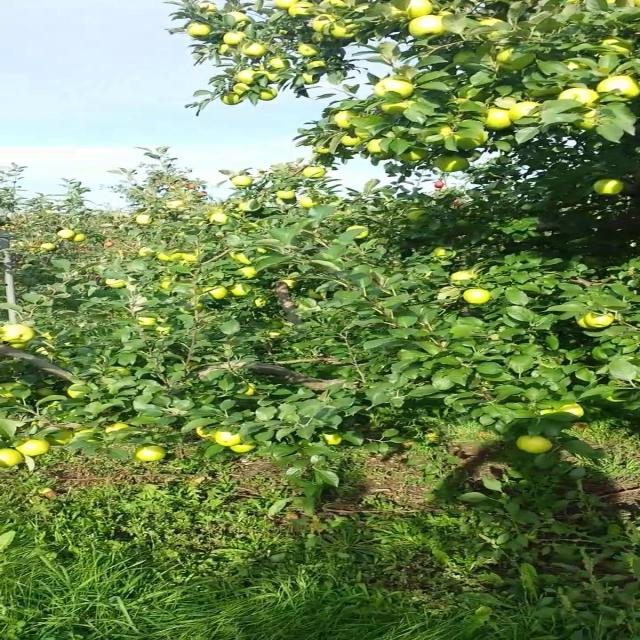apple: (596, 75, 640, 98), (492, 45, 532, 67), (373, 78, 413, 99), (409, 15, 444, 38), (484, 103, 514, 129), (391, 0, 433, 18), (452, 129, 488, 149), (558, 88, 600, 105), (540, 402, 584, 418), (570, 108, 602, 130), (516, 435, 553, 454), (378, 98, 417, 116), (414, 124, 452, 142), (491, 53, 529, 71), (366, 137, 396, 159), (0, 324, 36, 342), (598, 37, 633, 55), (576, 311, 610, 329), (433, 155, 469, 172), (509, 101, 539, 121), (16, 439, 51, 456), (328, 21, 361, 39), (484, 108, 511, 130), (582, 310, 614, 328), (421, 124, 455, 140), (46, 428, 76, 446), (447, 268, 478, 284), (136, 445, 167, 461), (593, 179, 624, 195), (332, 109, 358, 128), (286, 1, 316, 17), (365, 137, 391, 155), (396, 147, 429, 161), (476, 18, 504, 34), (462, 289, 491, 304), (213, 431, 242, 446), (310, 14, 334, 32), (240, 42, 267, 58), (367, 146, 397, 160), (450, 50, 476, 65), (187, 22, 211, 38), (64, 382, 87, 398), (218, 91, 244, 105), (186, 25, 212, 39), (295, 42, 320, 56), (263, 56, 288, 70), (192, 424, 216, 438), (228, 283, 252, 297), (236, 265, 260, 279), (320, 430, 344, 444), (234, 383, 258, 397), (302, 166, 327, 179), (346, 224, 369, 238), (194, 2, 218, 15), (431, 245, 453, 259), (230, 251, 252, 265), (222, 31, 244, 45), (207, 285, 229, 299), (103, 421, 129, 432), (207, 211, 229, 224), (562, 59, 588, 70), (231, 175, 253, 188), (227, 11, 249, 24), (572, 314, 592, 328), (236, 69, 256, 83), (297, 195, 320, 207), (215, 43, 236, 56), (229, 442, 256, 452), (404, 209, 426, 221), (258, 88, 278, 101), (231, 82, 251, 95), (607, 0, 638, 8), (262, 70, 281, 83), (110, 365, 132, 376), (340, 135, 362, 146), (156, 251, 180, 261), (5, 340, 28, 350), (104, 279, 127, 289), (55, 228, 74, 240), (273, 0, 298, 9), (134, 316, 156, 326), (304, 59, 326, 69), (32, 345, 52, 356), (300, 72, 318, 84), (164, 198, 185, 208), (324, 0, 350, 8), (312, 144, 332, 154), (434, 8, 454, 18), (276, 190, 296, 200), (133, 213, 151, 224), (604, 0, 636, 6), (69, 232, 87, 242), (179, 252, 197, 262), (158, 280, 174, 290), (236, 200, 252, 210), (154, 325, 170, 335), (40, 242, 56, 250)
